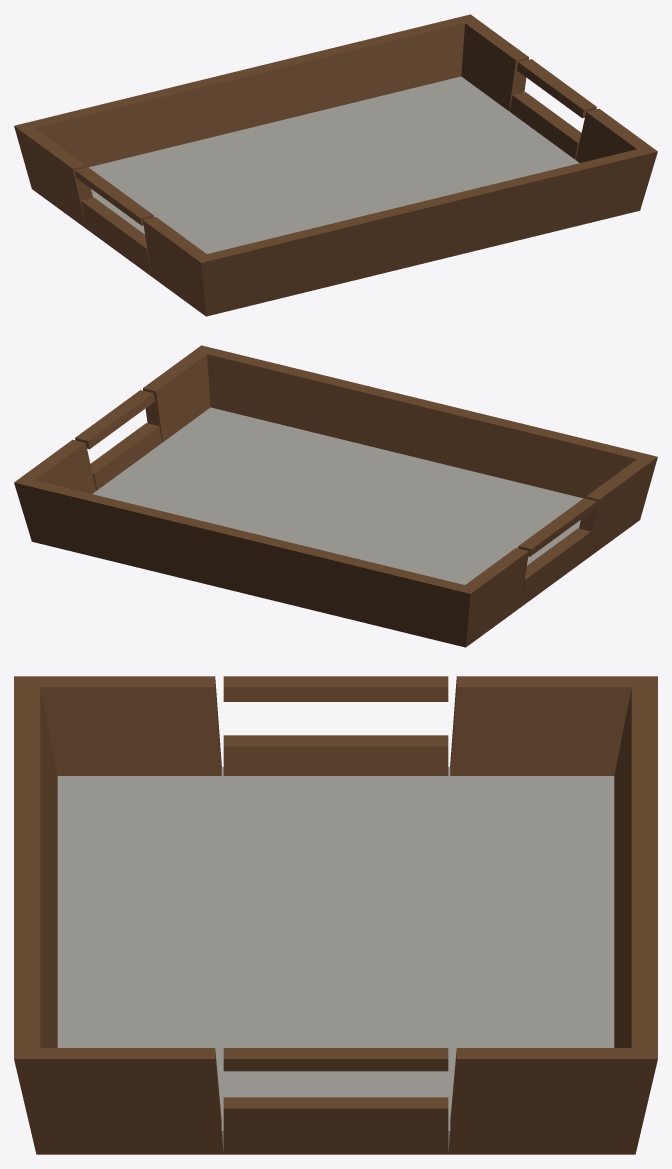
The model's file is FN_Tray_Serving.obj.
3 views of the same model, one above another, from view 1: azimuth 30°, elevation 25°; view 2: azimuth 150°, elevation 25°; view 3: azimuth 270°, elevation 25° (orthographic). The views are drawn at different scales.
Visible parts, largest first — view 1: FN_Tray_Serving; view 2: FN_Tray_Serving; view 3: FN_Tray_Serving.
Part boxes in pixels (bbox=[...]): FN_Tray_Serving: bbox=[14, 14, 657, 316]; FN_Tray_Serving: bbox=[14, 345, 657, 647]; FN_Tray_Serving: bbox=[14, 676, 657, 1154].
Size of the model in its own units: 0.484 by 0.062 by 0.344.
1 material, 1 textured.
